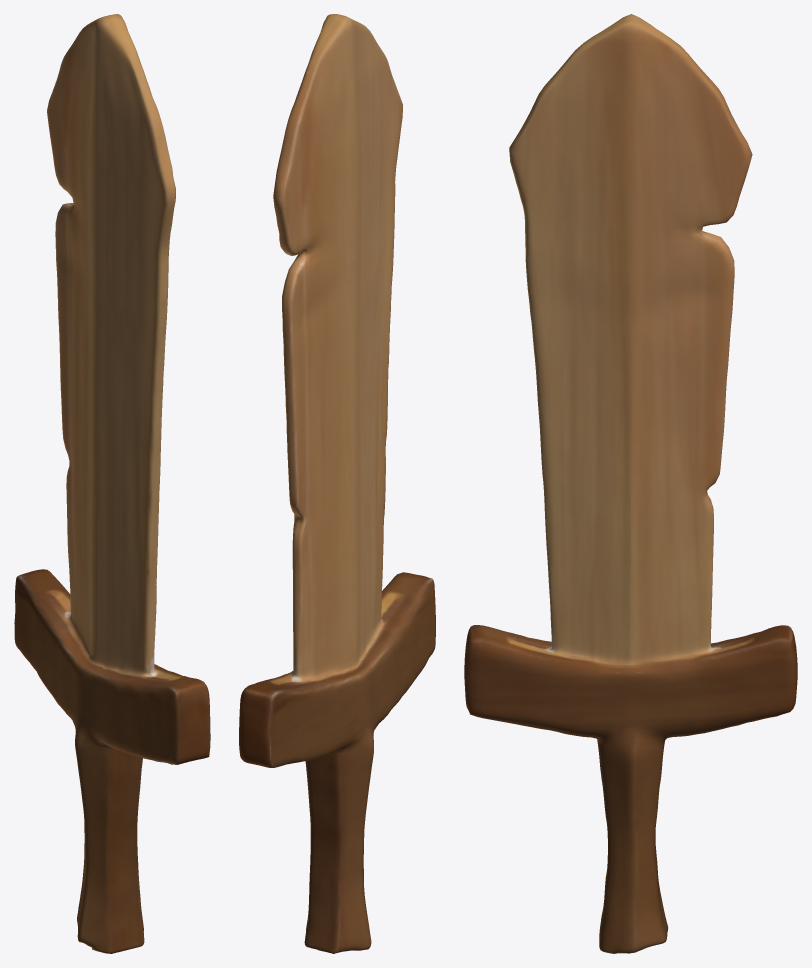
The model's file is tempest_blade.glb.
The picture shows the model from 3 angles, left to right: view 1: azimuth 30°, elevation 25°; view 2: azimuth 150°, elevation 25°; view 3: azimuth 270°, elevation 25°; orthographic projection.
Parts seen in each view (by area): view 1: model; view 2: model; view 3: model.
Boxes of the visible parts, x1,y1,x2,y2 form: model: (14,14,210,953); model: (239,14,435,953); model: (464,14,797,953).
Size of the model in its own units: 0.1497 by 1.89 by 0.6174.
Materials: 1 (1 with a texture image).
